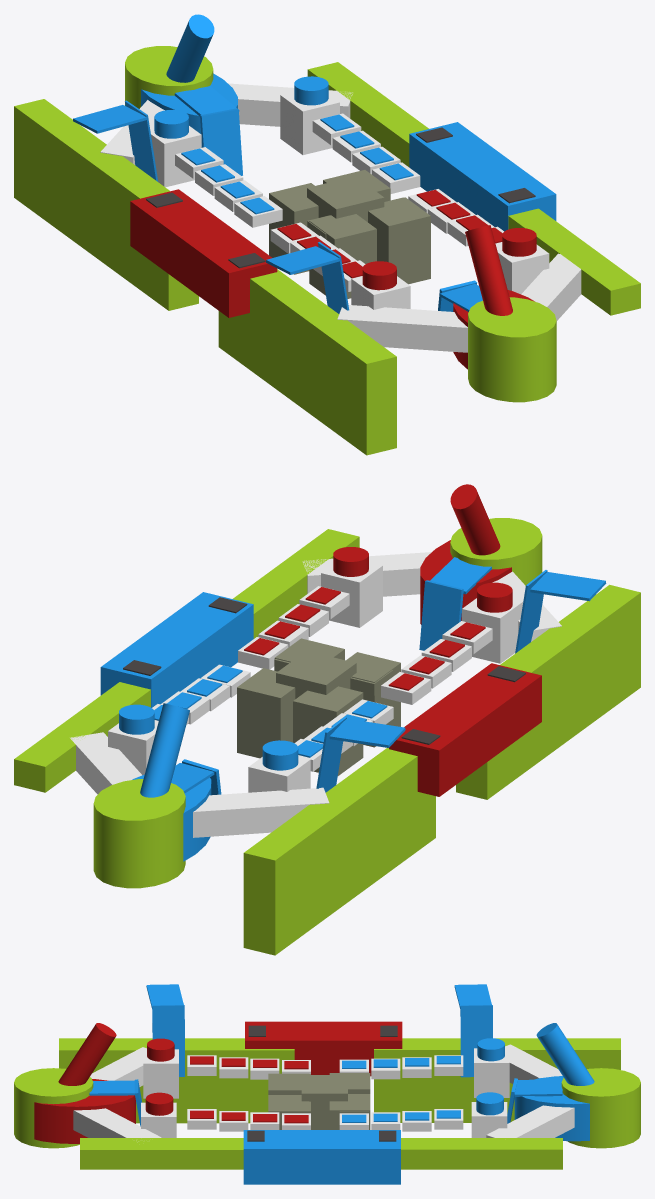
3 views of the same model, one above another, from view 1: azimuth 30°, elevation 25°; view 2: azimuth 150°, elevation 25°; view 3: azimuth 270°, elevation 25° (orthographic). The views are drawn at different scales.
Visible parts, largest first — view 1: Cube (5), Cube (34), Cube (1), Cube (2) (×2), Cylinder (7), Cube (4), Cube (9), Cube (19), Cube (30), Cylinder (6), Cylinder (8), Cube (35) (+24 smaller); view 2: Cube (34), Cube (5) (×2), Cube (1) (×2), Cube (2), Cylinder (6), Cube (19), Cube (25), Cube (4), Cube (39), Cylinder (7), Cube (40), Cylinder (9) (+24 smaller); view 3: Cube (2) (×2), Cube (34), Cube (5) (×2), Cube (1), Cube (4), Cube (19), Cylinder (6), Cylinder (7), Cylinder, Cube (24), Cube (13), Cube (12) (+35 smaller).
Part boxes in pixels (bbox=[...]): Cube (5): bbox=[218, 269, 396, 455]; Cube (34): bbox=[14, 99, 198, 310]; Cube (1): bbox=[130, 189, 277, 317]; Cube (2) (×2): bbox=[372, 122, 556, 231]; Cylinder (7): bbox=[468, 297, 556, 402]; Cube (4): bbox=[508, 208, 640, 315]; Cube (9): bbox=[337, 305, 467, 352]; Cube (19): bbox=[307, 62, 428, 166]; Cube (30): bbox=[368, 197, 430, 284]; Cylinder (6): bbox=[125, 46, 213, 108]; Cylinder (8): bbox=[465, 225, 512, 315]; Cube (35): bbox=[309, 214, 376, 298]; Cube (34): bbox=[243, 748, 435, 955]; Cube (5) (×2): bbox=[238, 584, 640, 799]; Cube (1) (×2): bbox=[381, 663, 541, 796]; Cube (2): bbox=[100, 592, 253, 707]; Cylinder (6): bbox=[93, 779, 185, 888]; Cube (19): bbox=[14, 682, 150, 792]; Cube (25): bbox=[193, 787, 329, 837]; Cube (4): bbox=[233, 529, 359, 638]; Cube (39): bbox=[237, 668, 295, 758]; Cylinder (7): bbox=[450, 518, 542, 585]; Cube (40): bbox=[293, 686, 363, 775]; Cylinder (9): bbox=[140, 703, 189, 797]; Cube (2) (×2): bbox=[243, 1113, 400, 1184]; Cube (34): bbox=[374, 1038, 620, 1122]; Cube (5) (×2): bbox=[59, 1038, 310, 1129]; Cube (1): bbox=[245, 1021, 402, 1076]; Cube (4): bbox=[80, 1138, 243, 1169]; Cube (19): bbox=[401, 1138, 562, 1169]; Cylinder (6): bbox=[561, 1068, 640, 1148]; Cylinder (7): bbox=[14, 1068, 93, 1148]; Cylinder: bbox=[34, 1079, 135, 1143]; Cube (24): bbox=[486, 1105, 574, 1137]; Cube (13): bbox=[301, 1075, 347, 1129]; Cube (12): bbox=[73, 1108, 161, 1142].
Bounding box in the file's own units: 44.02 × 22.61 × 90.52.
